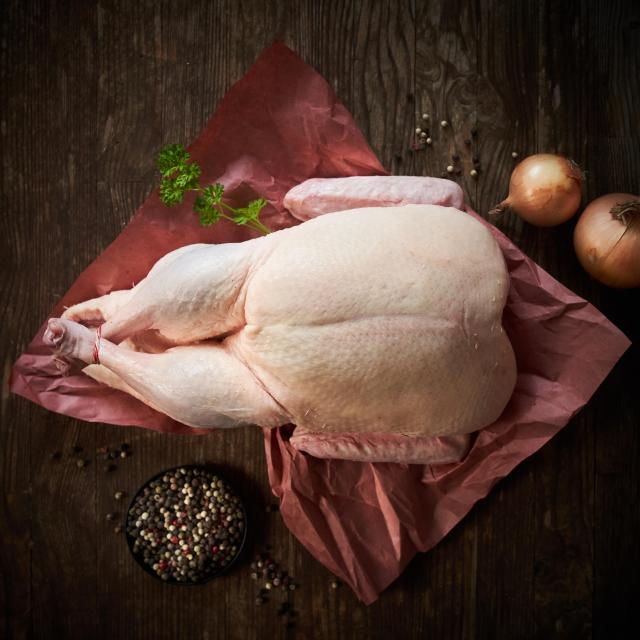duck: (44, 205, 516, 436)
